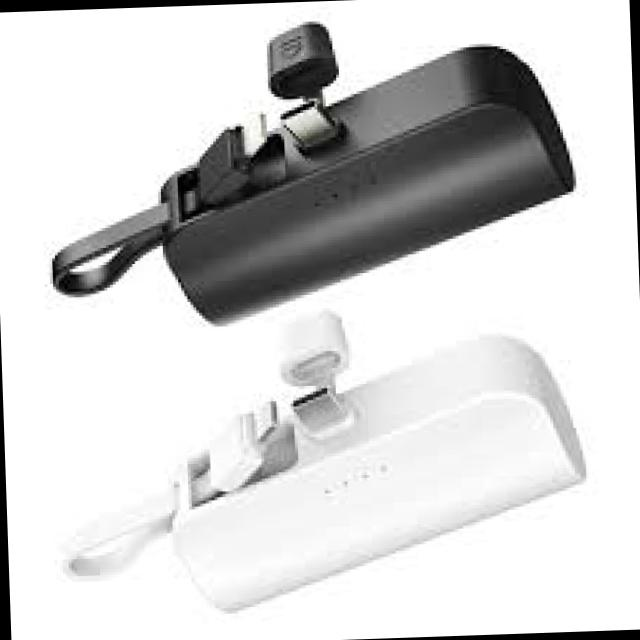portable-charger: (147, 12, 581, 334), (154, 326, 588, 612)
